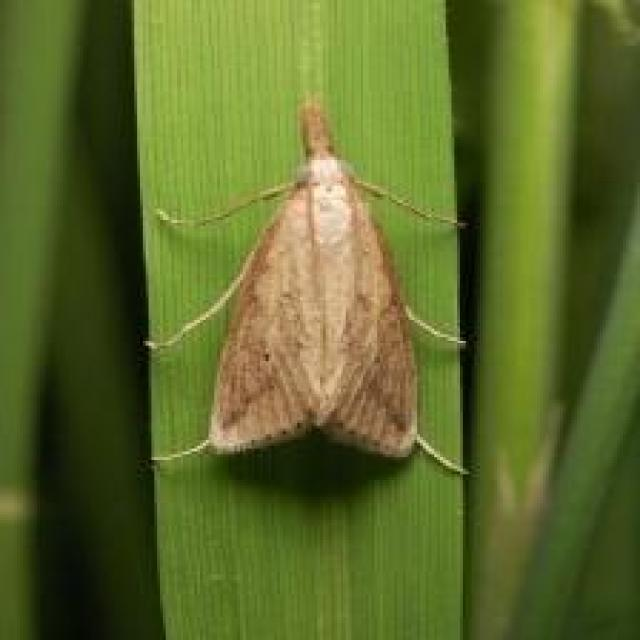yellow-stem-borer: (135, 63, 515, 518)
